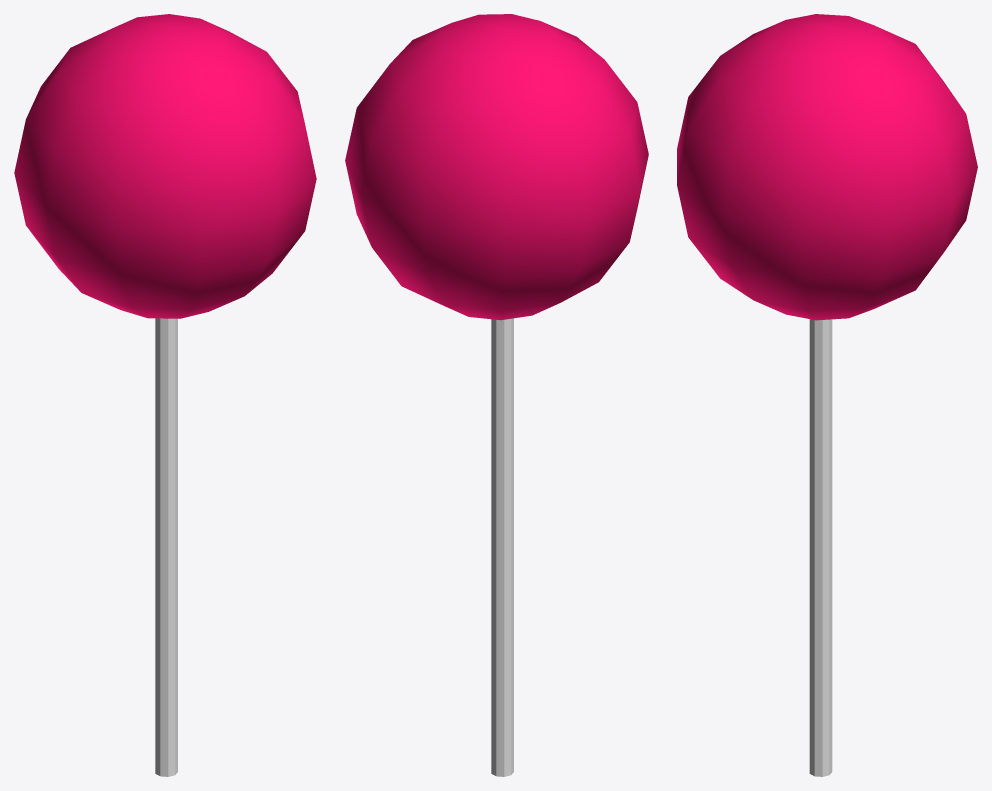
The model's file is 024_Candy_Lollipop_02.fbx.
The picture shows the model from 3 angles, left to right: view 1: azimuth 30°, elevation 25°; view 2: azimuth 150°, elevation 25°; view 3: azimuth 270°, elevation 25°; orthographic projection.
Parts seen in each view (by area): view 1: Sphere.057, Cylinder.034; view 2: Sphere.057, Cylinder.034; view 3: Sphere.057, Cylinder.034.
Boxes of the visible parts, x1=… form: Sphere.057: x1=14, y1=14, x2=316, y2=318; Cylinder.034: x1=155, y1=318, x2=177, y2=776; Sphere.057: x1=345, y1=14, x2=648, y2=320; Cylinder.034: x1=491, y1=318, x2=513, y2=776; Sphere.057: x1=677, y1=14, x2=977, y2=320; Cylinder.034: x1=809, y1=319, x2=832, y2=776.
Size of the model in its own units: 127 by 344 by 126.
